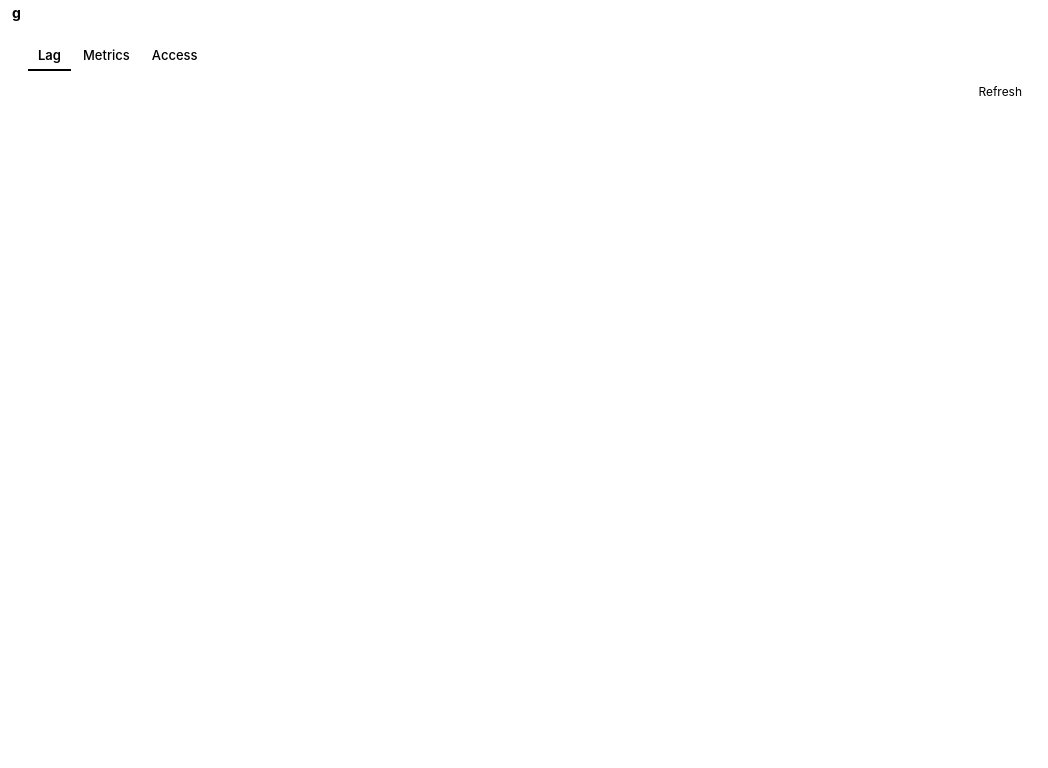
ConsumerGroupDetailPanel metrics › offers Lag, Metrics and Access tabs, and records a sample per Refresh
The width and height of the screenshot is (1048, 768).
Expected: the tabs read "Lag", "Metrics", "Access", in this order, 28,41 -> 71,71; 73,41 -> 140,71; 142,41 -> 208,71
Click the button "Refresh" at (1000, 92), box 964,78 -> 1036,105
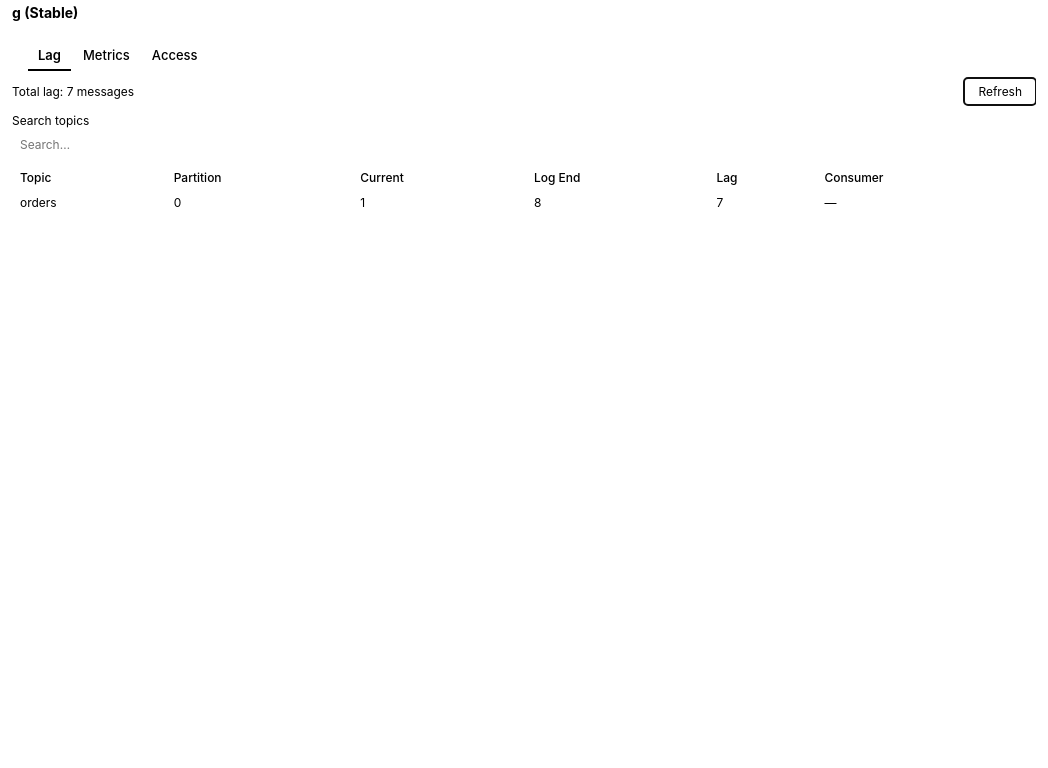
Click the tab "Metrics" at (106, 56), box 73,41 -> 140,71
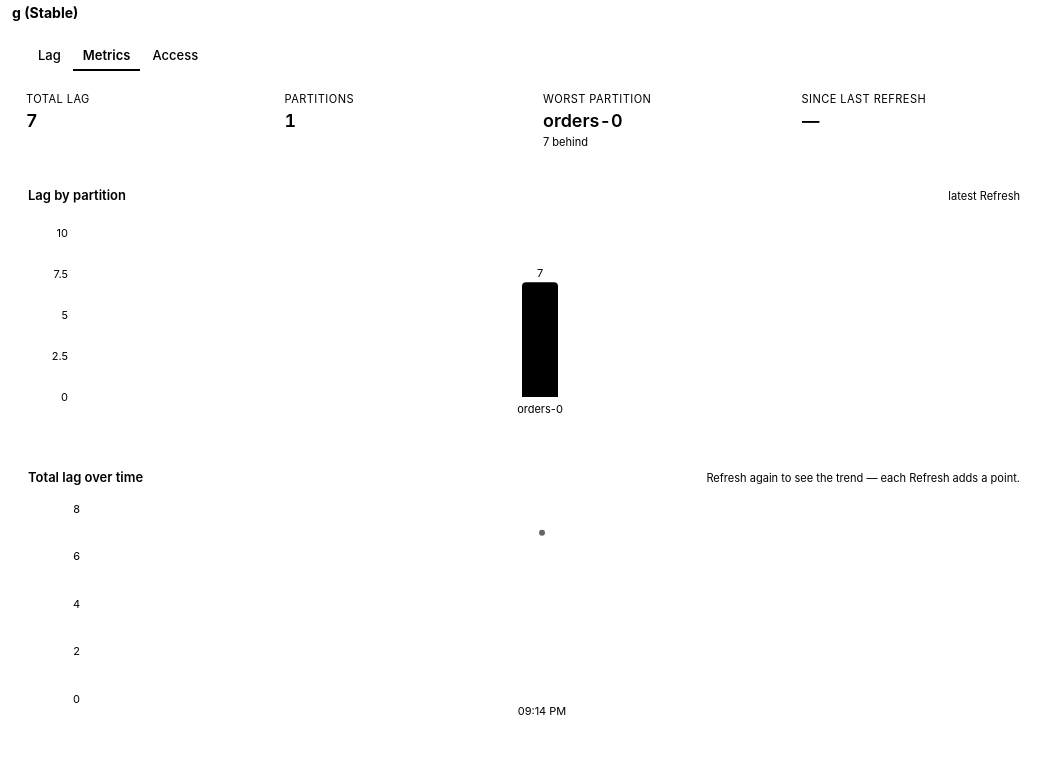
Expected: the picture named "Lag by partition" is shown, 28,211 -> 1020,431
